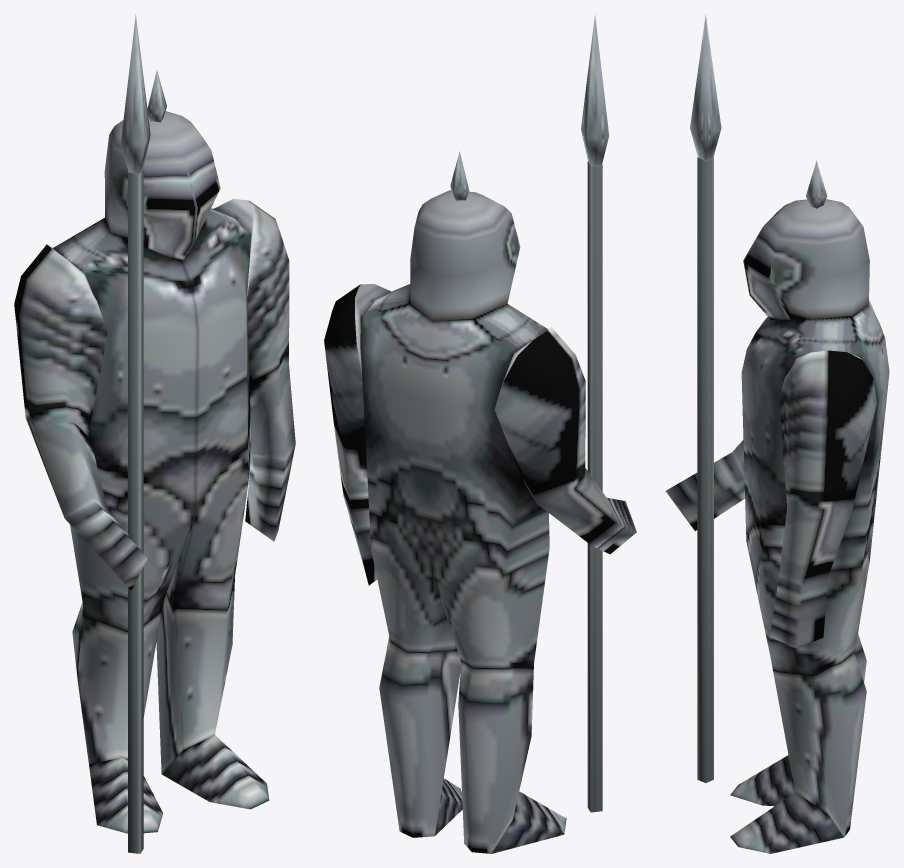
The model's file is rmk_jhn_armor.dae.
3 renders of one model, left to right at view 1: azimuth 30°, elevation 25°; view 2: azimuth 150°, elevation 25°; view 3: azimuth 270°, elevation 25°, orthographic. The views are drawn at different scales.
Parts seen in each view (by area): view 1: rmk_jhn_armor; view 2: rmk_jhn_armor; view 3: rmk_jhn_armor.
Part boxes in pixels (x1,y1,x2,y2): rmk_jhn_armor: (14, 14, 295, 853); rmk_jhn_armor: (324, 15, 636, 853); rmk_jhn_armor: (665, 15, 889, 853).
Bounding box in the file's own units: 23.67 × 71.51 × 18.97.
Materials: 1 (1 with a texture image).
